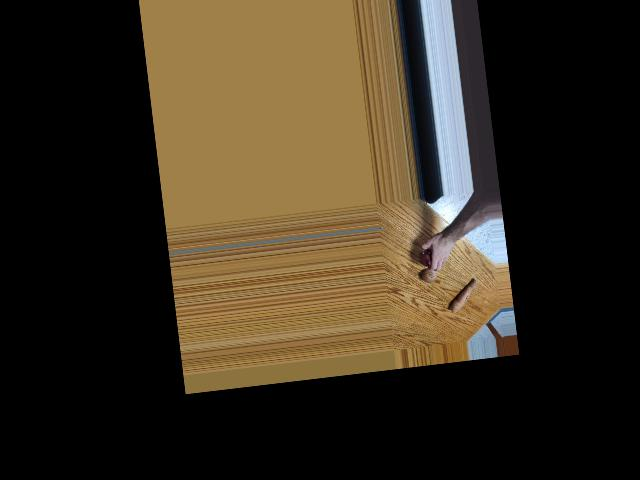onion: (419, 265, 437, 282)
